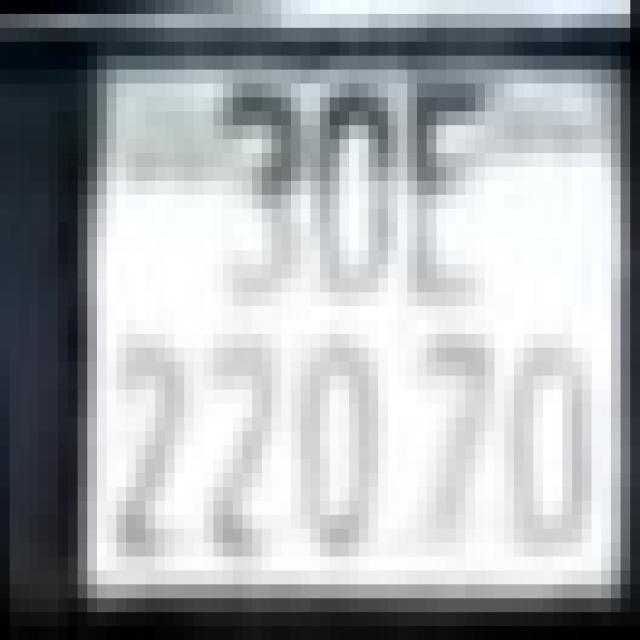0: (504, 320, 601, 570), (291, 320, 388, 556), (310, 84, 398, 292)
1: (417, 320, 495, 543)
2: (106, 334, 184, 556), (204, 334, 272, 556)
3: (213, 84, 301, 306)
E: (398, 63, 504, 299)
